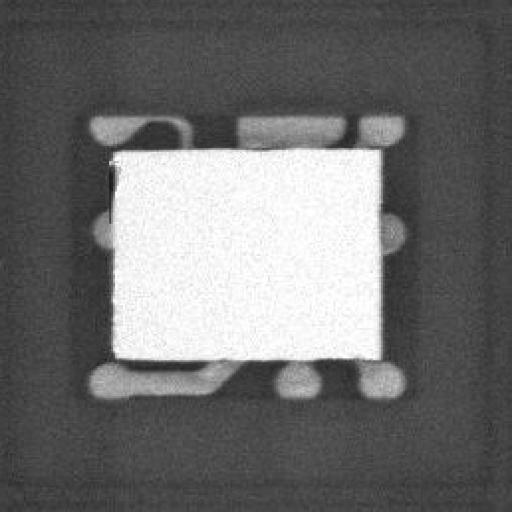DIE_BROKEN: (101, 157, 121, 201)
